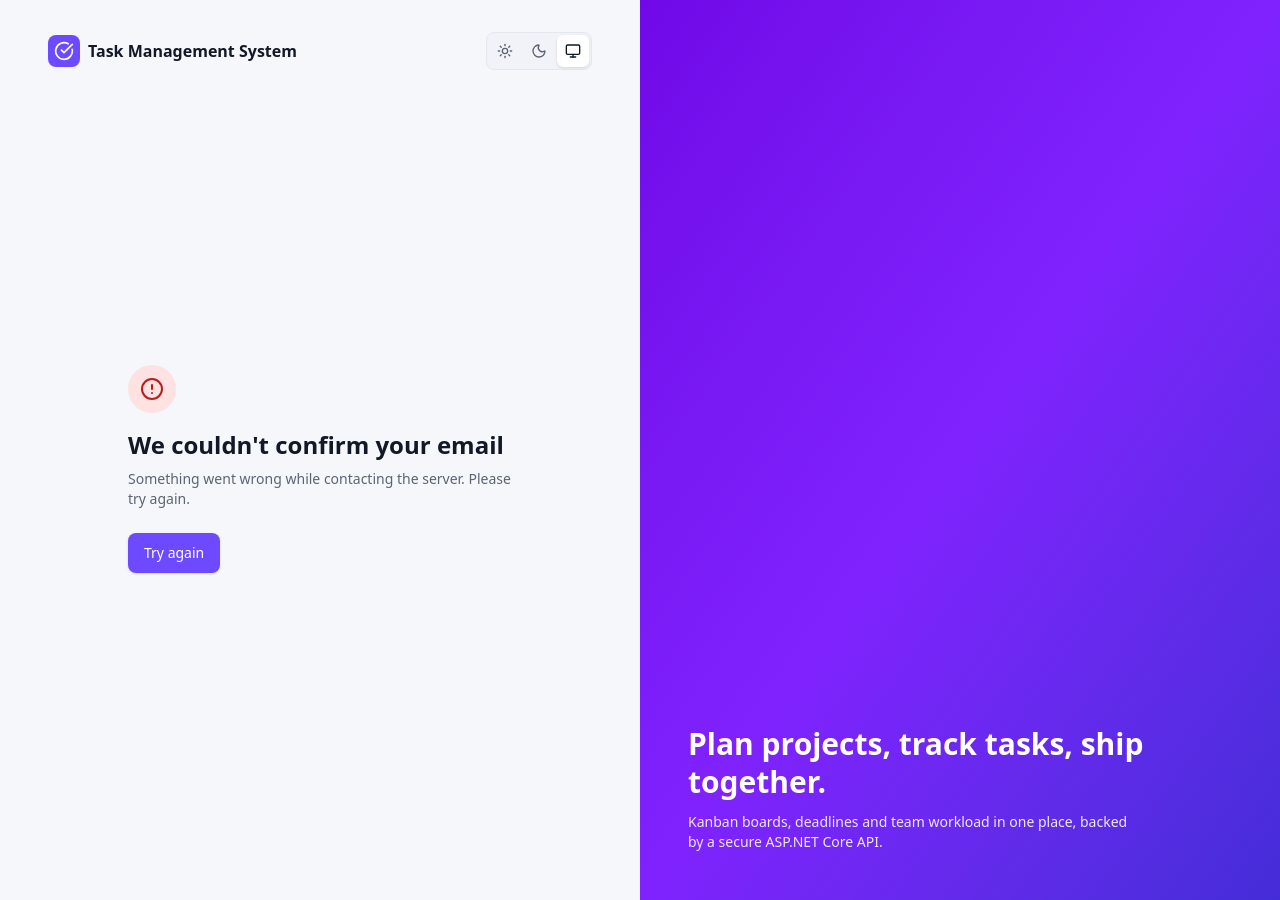
Test: Confirm email (link from email) › lets the user retry after a server error
What coordinates should you click on to do the following:
click the button "Try again"
I would click on:
 (174, 553)
Its box is [128,533,220,573].
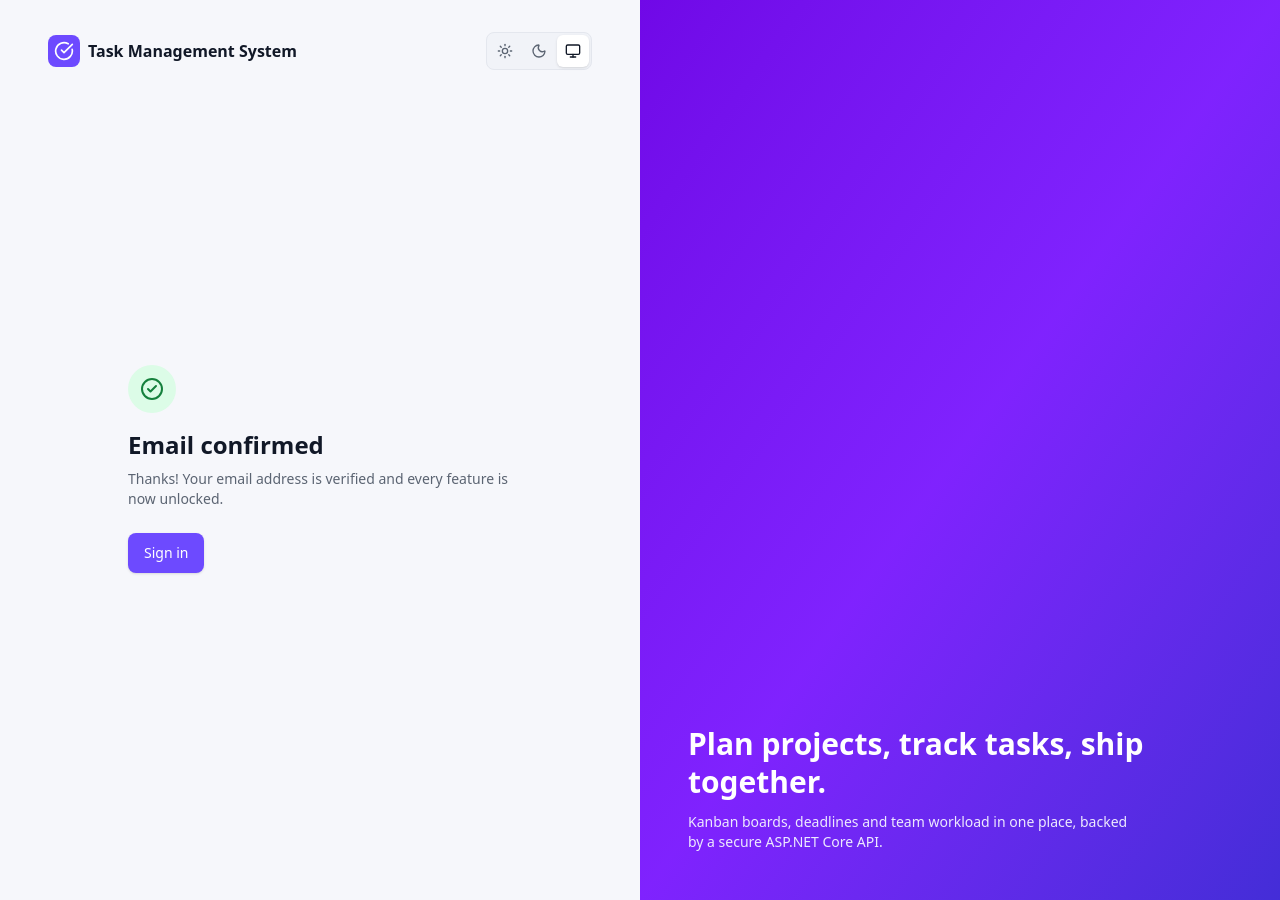
Expected: the heading "Email confirmed" is shown, [128,428,324,461]
